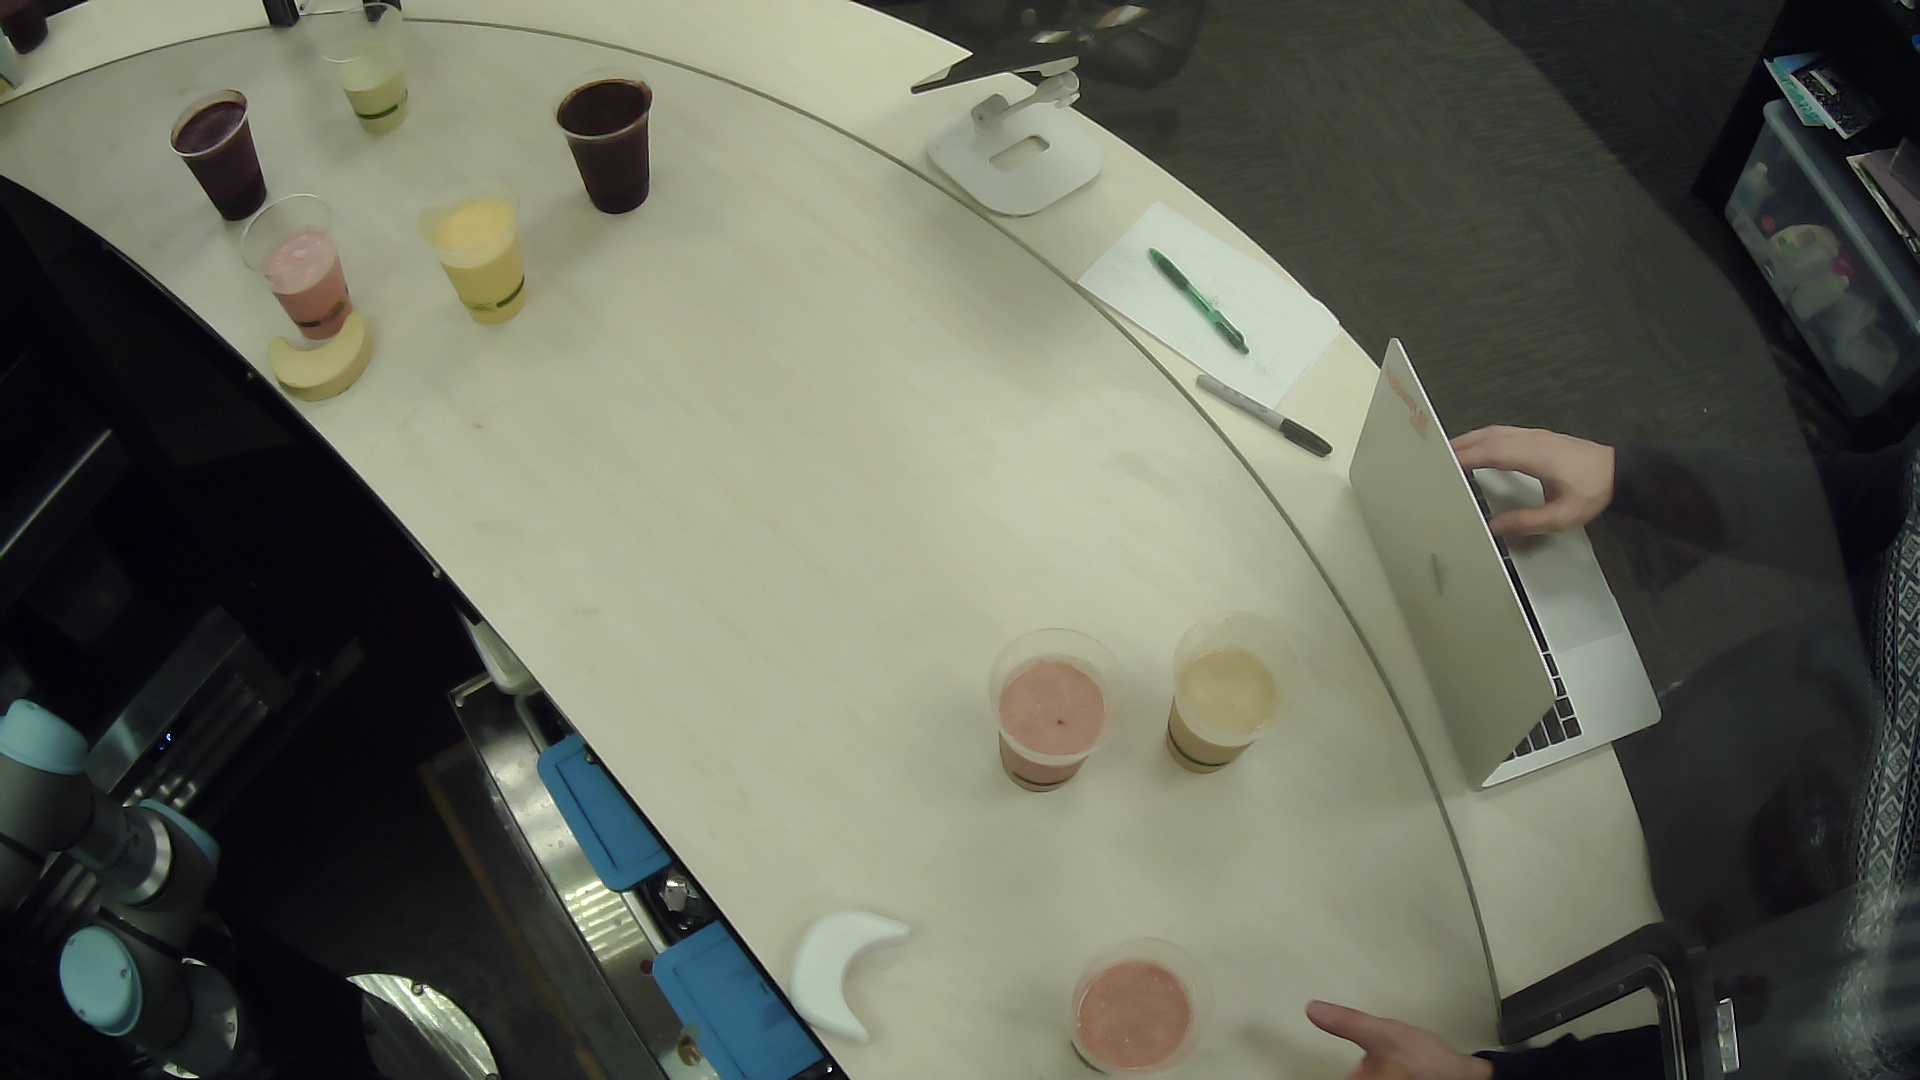Deliver: (758, 887, 944, 1048), (251, 297, 402, 410)
Full_cup: (969, 611, 1131, 816), (1164, 585, 1302, 800), (1036, 931, 1225, 1080), (541, 66, 676, 224), (237, 191, 375, 343), (157, 79, 286, 229), (413, 182, 541, 331), (311, 1, 434, 148)
